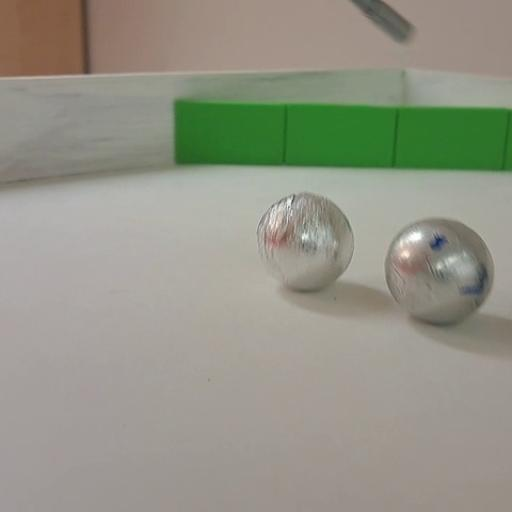alive: (382, 216, 493, 324), (256, 192, 354, 290)
